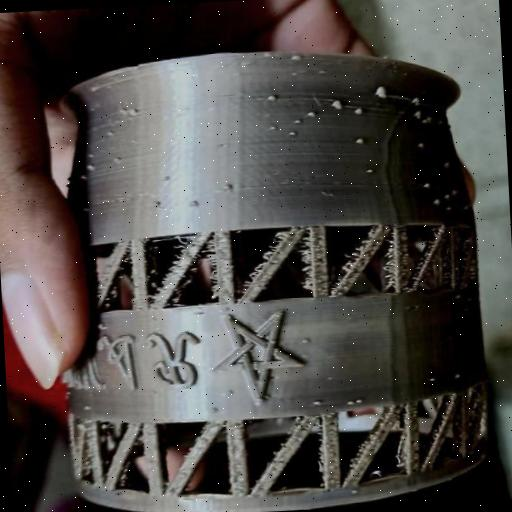blobs: (405, 92, 426, 108), (374, 82, 392, 100), (126, 104, 142, 122), (327, 96, 345, 111), (183, 197, 200, 212), (448, 368, 466, 382), (300, 334, 320, 346), (414, 136, 428, 153), (352, 132, 366, 148), (266, 92, 282, 106), (266, 120, 282, 134), (290, 52, 306, 66), (110, 153, 126, 167), (350, 104, 368, 116), (308, 396, 326, 408), (424, 374, 442, 386), (412, 110, 426, 125), (222, 180, 236, 194), (85, 160, 99, 174), (439, 159, 455, 171), (286, 128, 299, 142), (362, 166, 376, 178), (418, 180, 434, 190), (307, 108, 322, 118), (344, 396, 356, 408), (354, 394, 366, 406), (290, 118, 304, 128), (431, 196, 442, 206)
